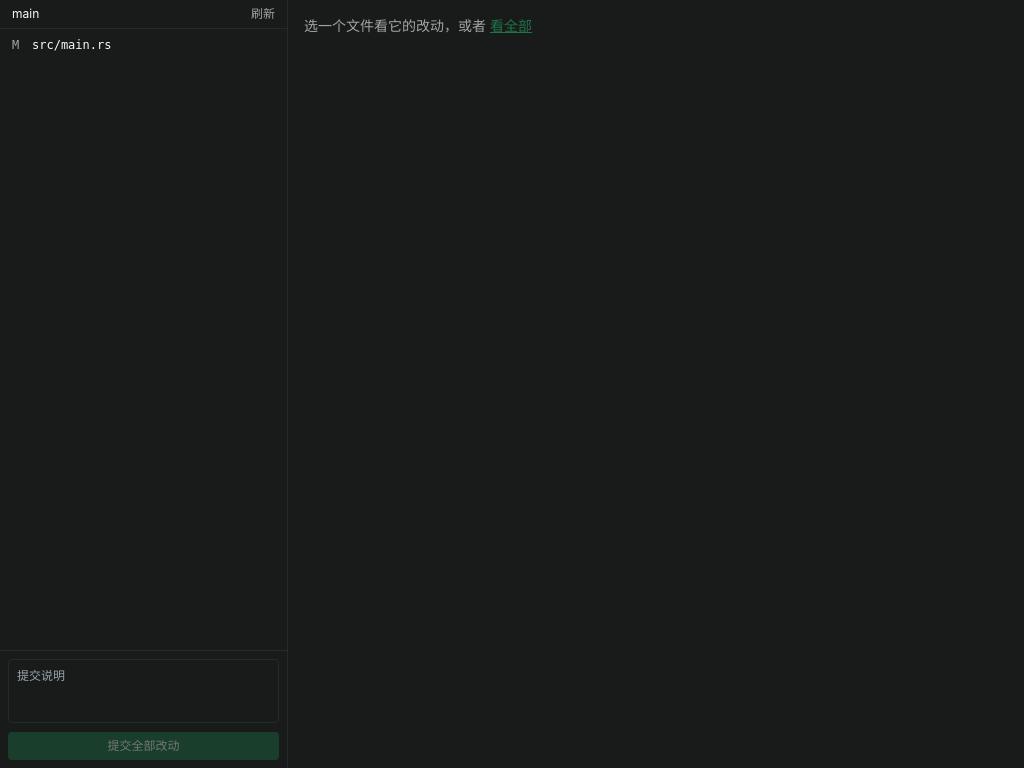
it: the changes panel › commits, then reloads the status rather than trusting its own copy
The image size is (1024, 768).
Expected: the text "src/main.rs" is shown, [32, 37, 112, 53]
In the text box labelled "提交说明": x=144, y=690 [8, 658, 279, 722], type "修好了那个 bug"
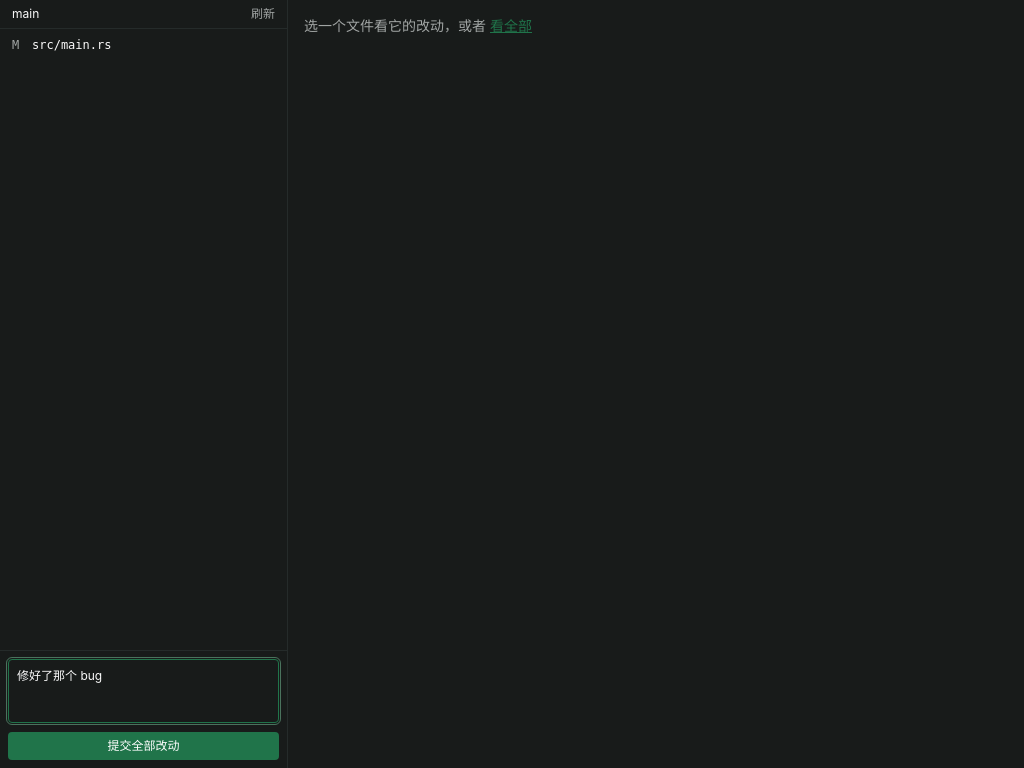
Click the button "提交全部改动": x=144, y=746 [8, 732, 279, 760]
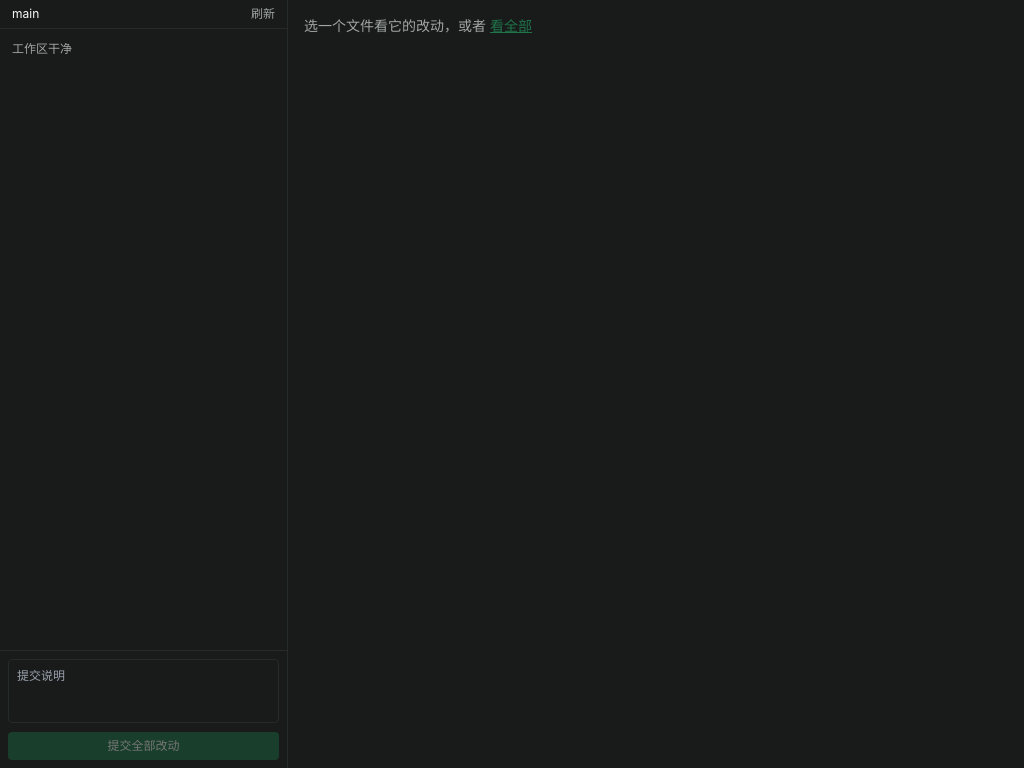
Now the list item "工作区干净" is shown, box [12, 41, 72, 56]
